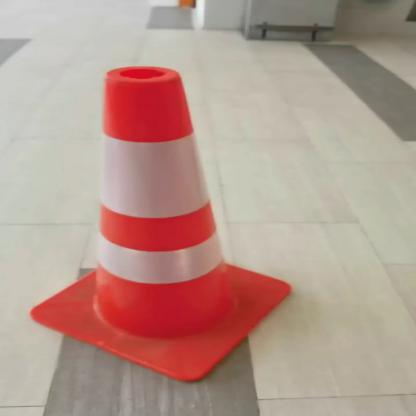cone: (21, 59, 308, 384)
